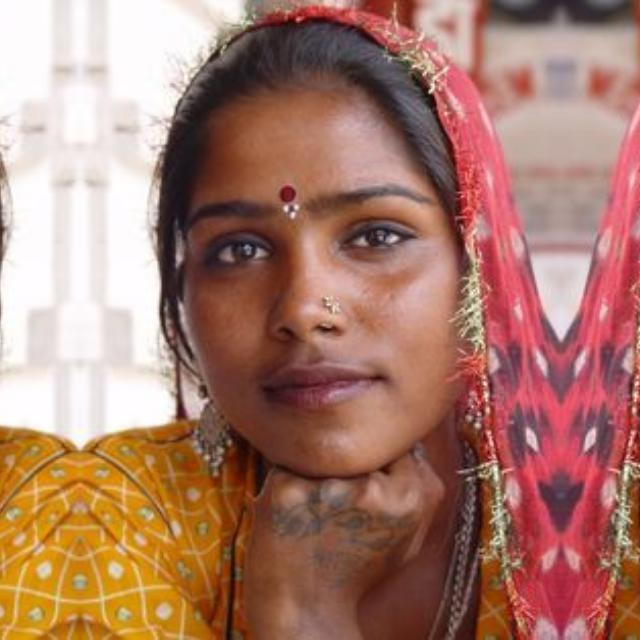person: (82, 0, 560, 640), (560, 0, 640, 640), (0, 0, 76, 640)
